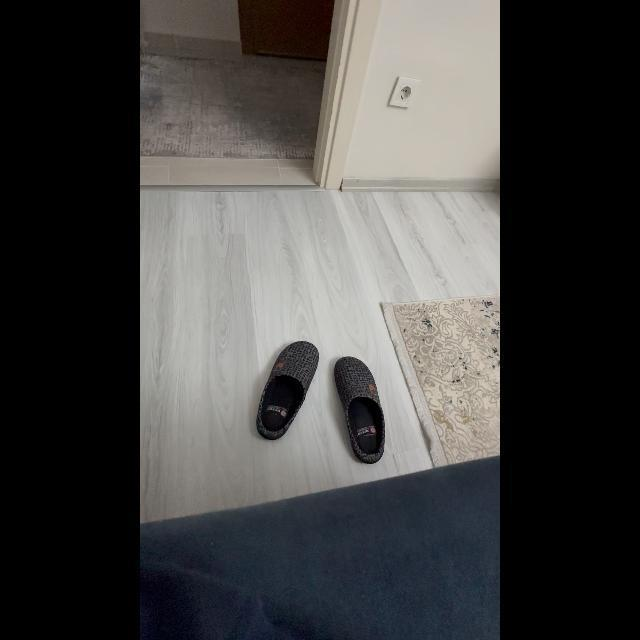slipper: (325, 350, 393, 470), (252, 333, 324, 445)
